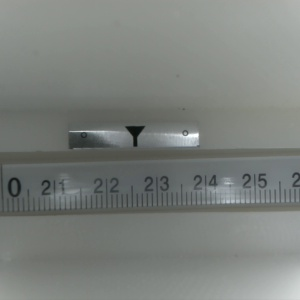0: (7, 177, 21, 197)
1: (58, 180, 65, 195)
2: (143, 176, 153, 192), (40, 180, 50, 195), (93, 178, 103, 193), (109, 178, 119, 193), (291, 172, 300, 188), (193, 175, 202, 190), (242, 174, 251, 188)
3: (159, 176, 169, 191)
4: (209, 175, 218, 189)
5: (257, 173, 266, 188)
finger: (123, 126, 145, 149)
